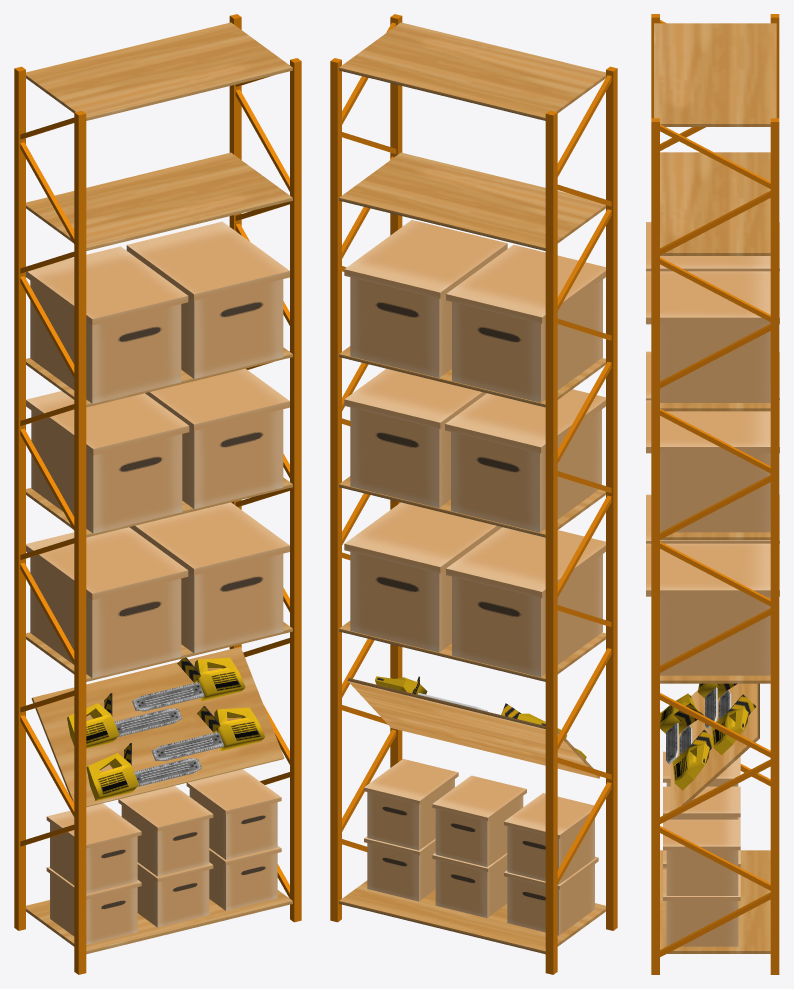
The model's file is Chainsaw_Rack.fbx.
3 views of the same model, side by side, from view 1: azimuth 30°, elevation 25°; view 2: azimuth 150°, elevation 25°; view 3: azimuth 270°, elevation 25° (orthographic).
Visible parts, largest first — view 1: Chainsaw_Rack; view 2: Chainsaw_Rack; view 3: Chainsaw_Rack.
Boxes of the visible parts, left/top/right/bottom form: Chainsaw_Rack: left=14, top=14, right=301, bottom=974; Chainsaw_Rack: left=330, top=14, right=617, bottom=974; Chainsaw_Rack: left=646, top=14, right=779, bottom=974.
Size of the model in its own units: 2 by 7.37 by 1.05.
